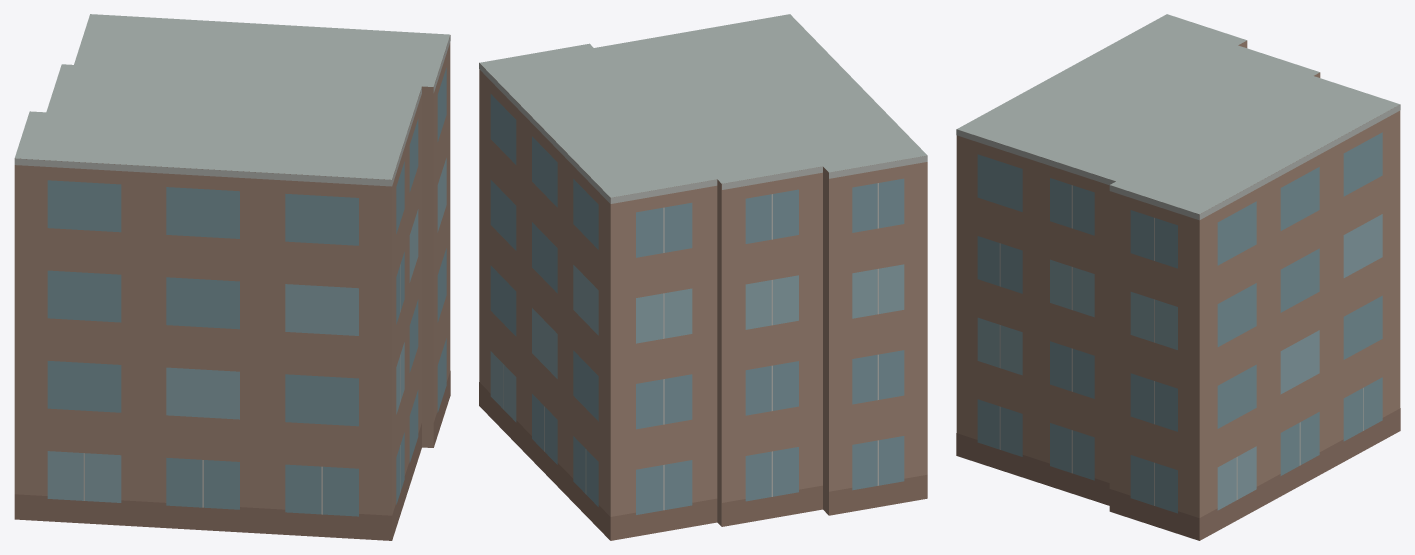
The model's file is survey-upis-32931782.glb.
The picture shows the model from 3 angles, left to right: view 1: azimuth 30°, elevation 25°; view 2: azimuth 150°, elevation 25°; view 3: azimuth 270°, elevation 25°; orthographic projection. The views are drawn at different scales.
Visible parts, largest first — view 1: survey-upis-32931782.tmp; view 2: survey-upis-32931782.tmp; view 3: survey-upis-32931782.tmp.
Part boxes in pixels (box(x1,y1,x2,y2)): survey-upis-32931782.tmp: box(14, 14, 450, 540); survey-upis-32931782.tmp: box(479, 14, 927, 540); survey-upis-32931782.tmp: box(956, 14, 1400, 540).
Size of the model in its own units: 17.44 by 13.25 by 16.33.
